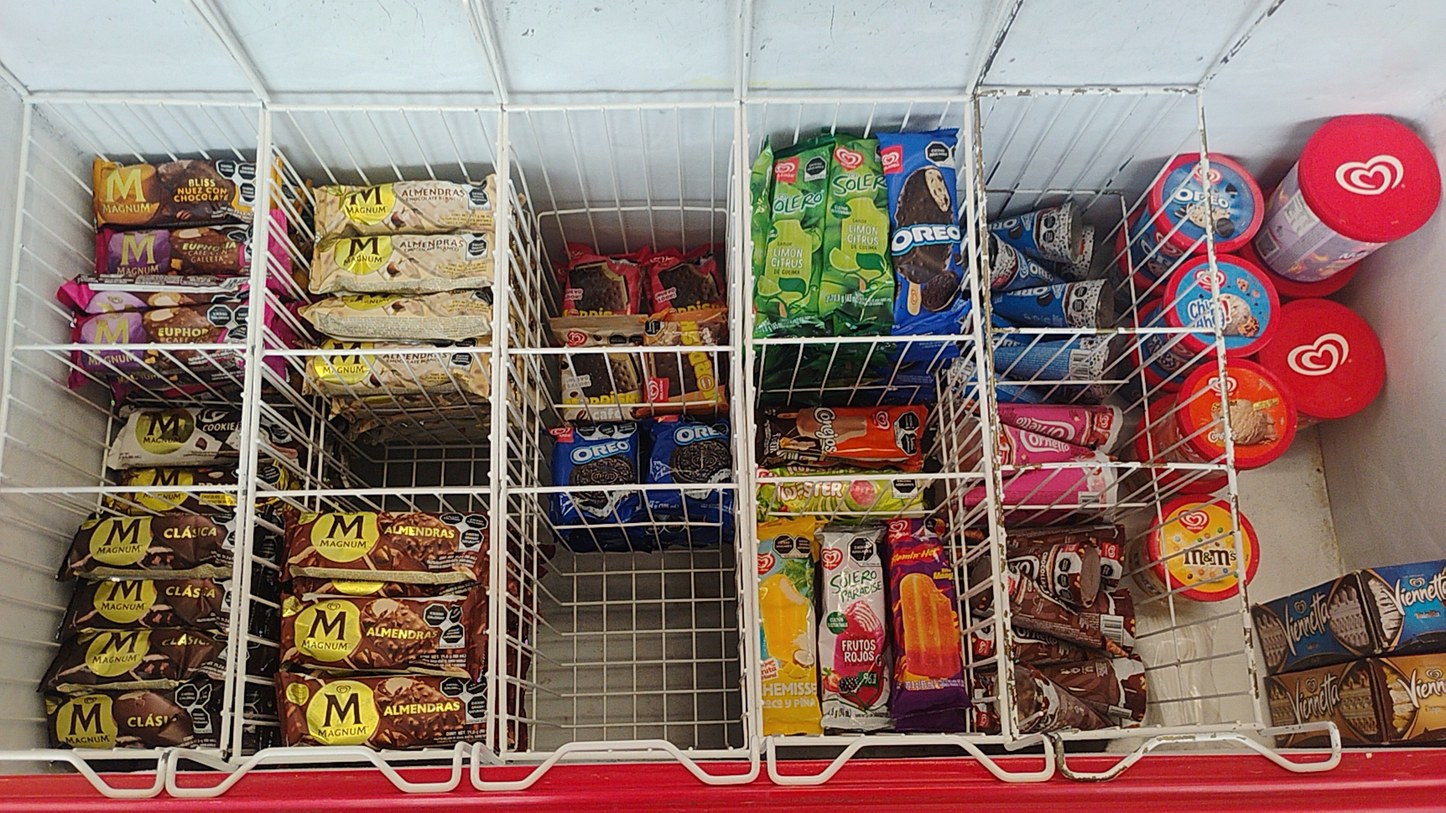Magnum clasica: (31, 680, 216, 743), (75, 516, 235, 574), (65, 581, 240, 628), (62, 628, 221, 675)
Oreo Mordizco: (648, 420, 739, 516), (545, 422, 636, 513)
